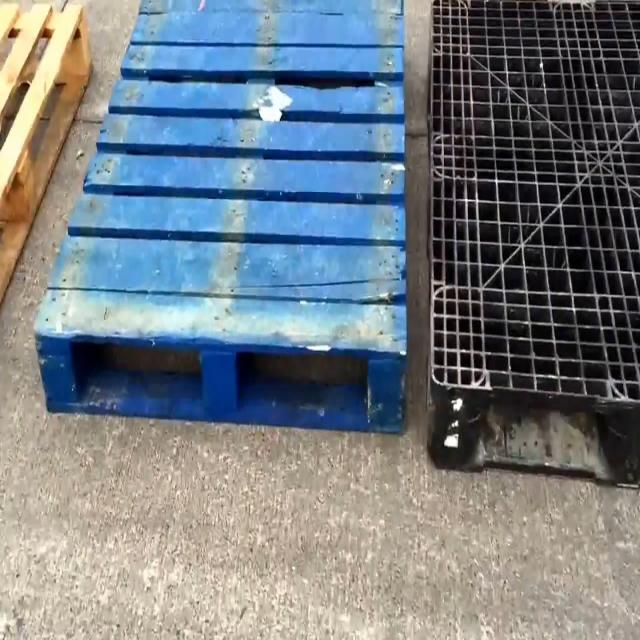Palette: (31, 0, 412, 452), (424, 0, 640, 494), (0, 0, 91, 327)
